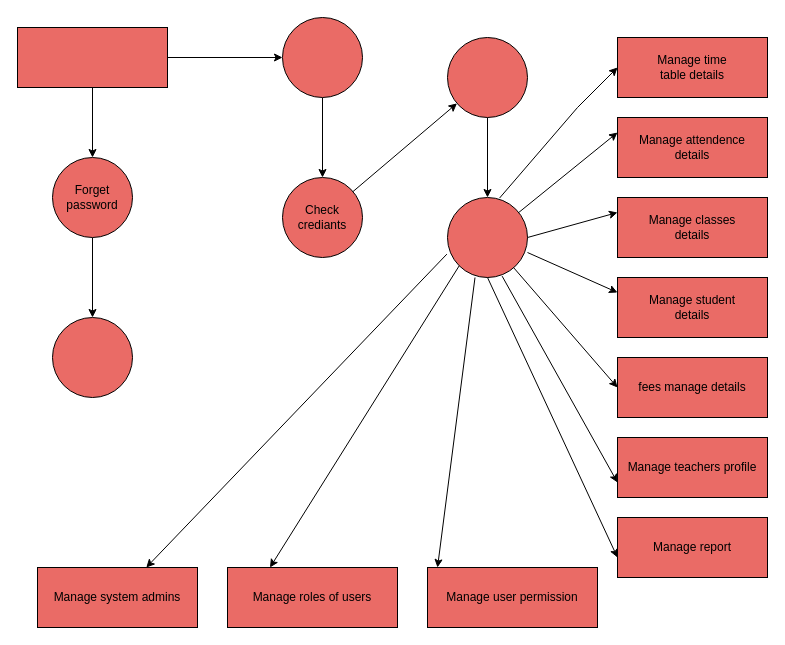
Some shapes in this 785 by 645 pixel diagram are drawn without their labels. Here are the shapes that lost their labels. From the top down, the centre of each, then its label:
(x=92, y=57): Admin
(x=322, y=57): Login to sytem
(x=487, y=77): Check roles of access
(x=487, y=237): Manage modules
(x=92, y=357): send email touser
